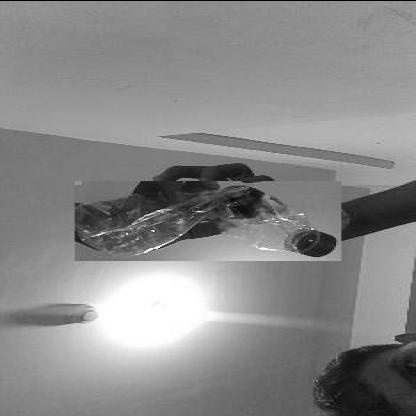plastic_bottles: (75, 180, 341, 259)
